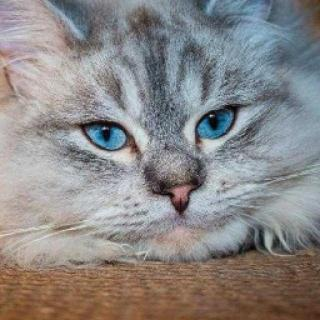cat: (5, 3, 320, 255)
nose: (143, 149, 205, 223)
